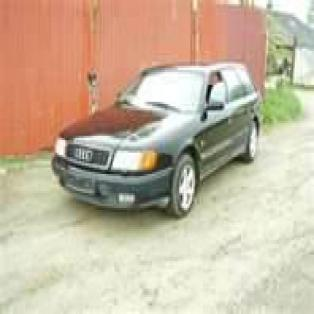Auto: (52, 58, 270, 218)
